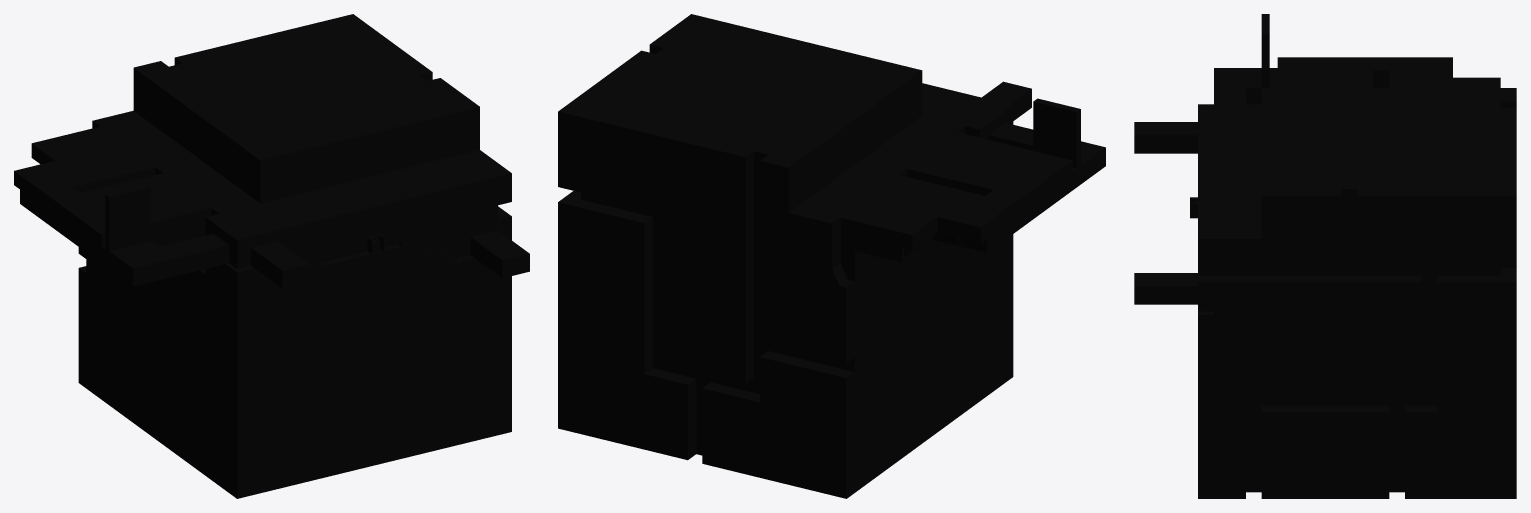
File: dangomap.obj
The picture shows the model from 3 angles, left to right: view 1: azimuth 30°, elevation 25°; view 2: azimuth 150°, elevation 25°; view 3: azimuth 270°, elevation 25°; orthographic projection. The views are drawn at different scales.
Size of the model in its own units: 10800 by 8400 by 9600.
